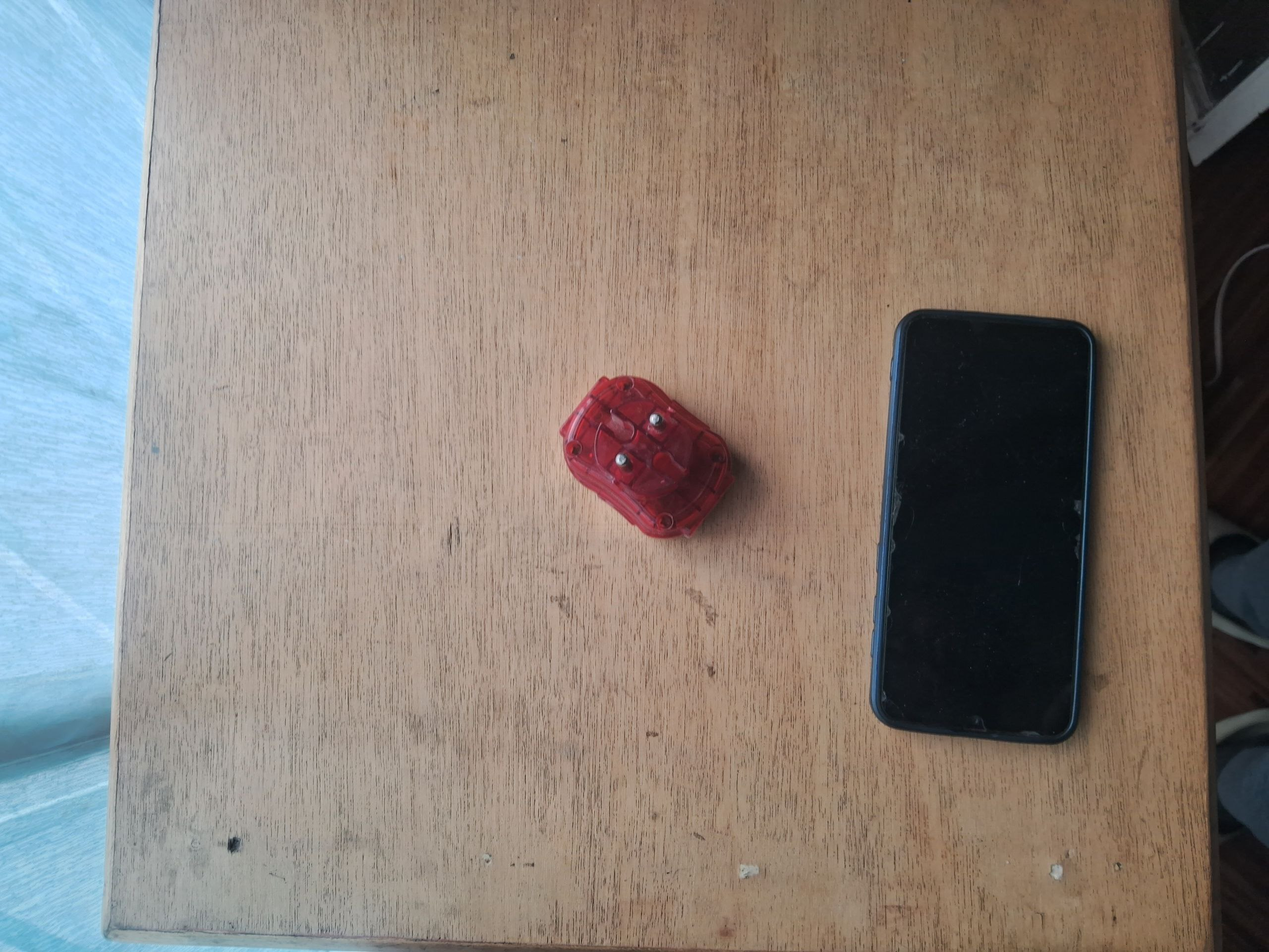Multi_adapter: (555, 359, 738, 546)
Smart_phone: (862, 293, 1101, 748)
